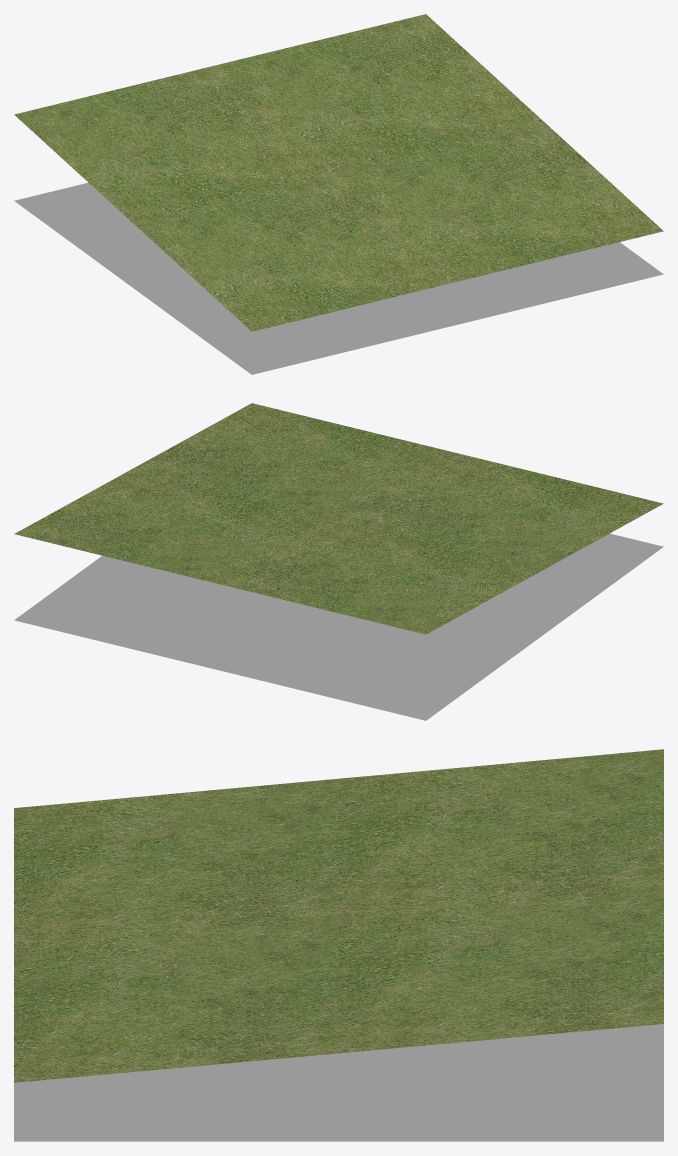
The model's file is Grass_Gradient_A.fbx.
The picture shows the model from 3 angles, top to bottom: view 1: azimuth 30°, elevation 25°; view 2: azimuth 150°, elevation 25°; view 3: azimuth 270°, elevation 25°; orthographic projection. The views are drawn at different scales.
Parts seen in each view (by area): view 1: Grass, Snap_Plane_Invisible; view 2: Grass, Snap_Plane_Invisible; view 3: Grass, Snap_Plane_Invisible.
Boxes of the visible parts, box(x1,y1,x2,y2) form: Grass: box(14, 14, 663, 331); Snap_Plane_Invisible: box(14, 182, 663, 374); Grass: box(14, 403, 663, 634); Snap_Plane_Invisible: box(14, 533, 663, 720); Grass: box(14, 749, 663, 1082); Snap_Plane_Invisible: box(14, 1024, 663, 1141).
Size of the model in its own units: 20 by 4 by 20.
